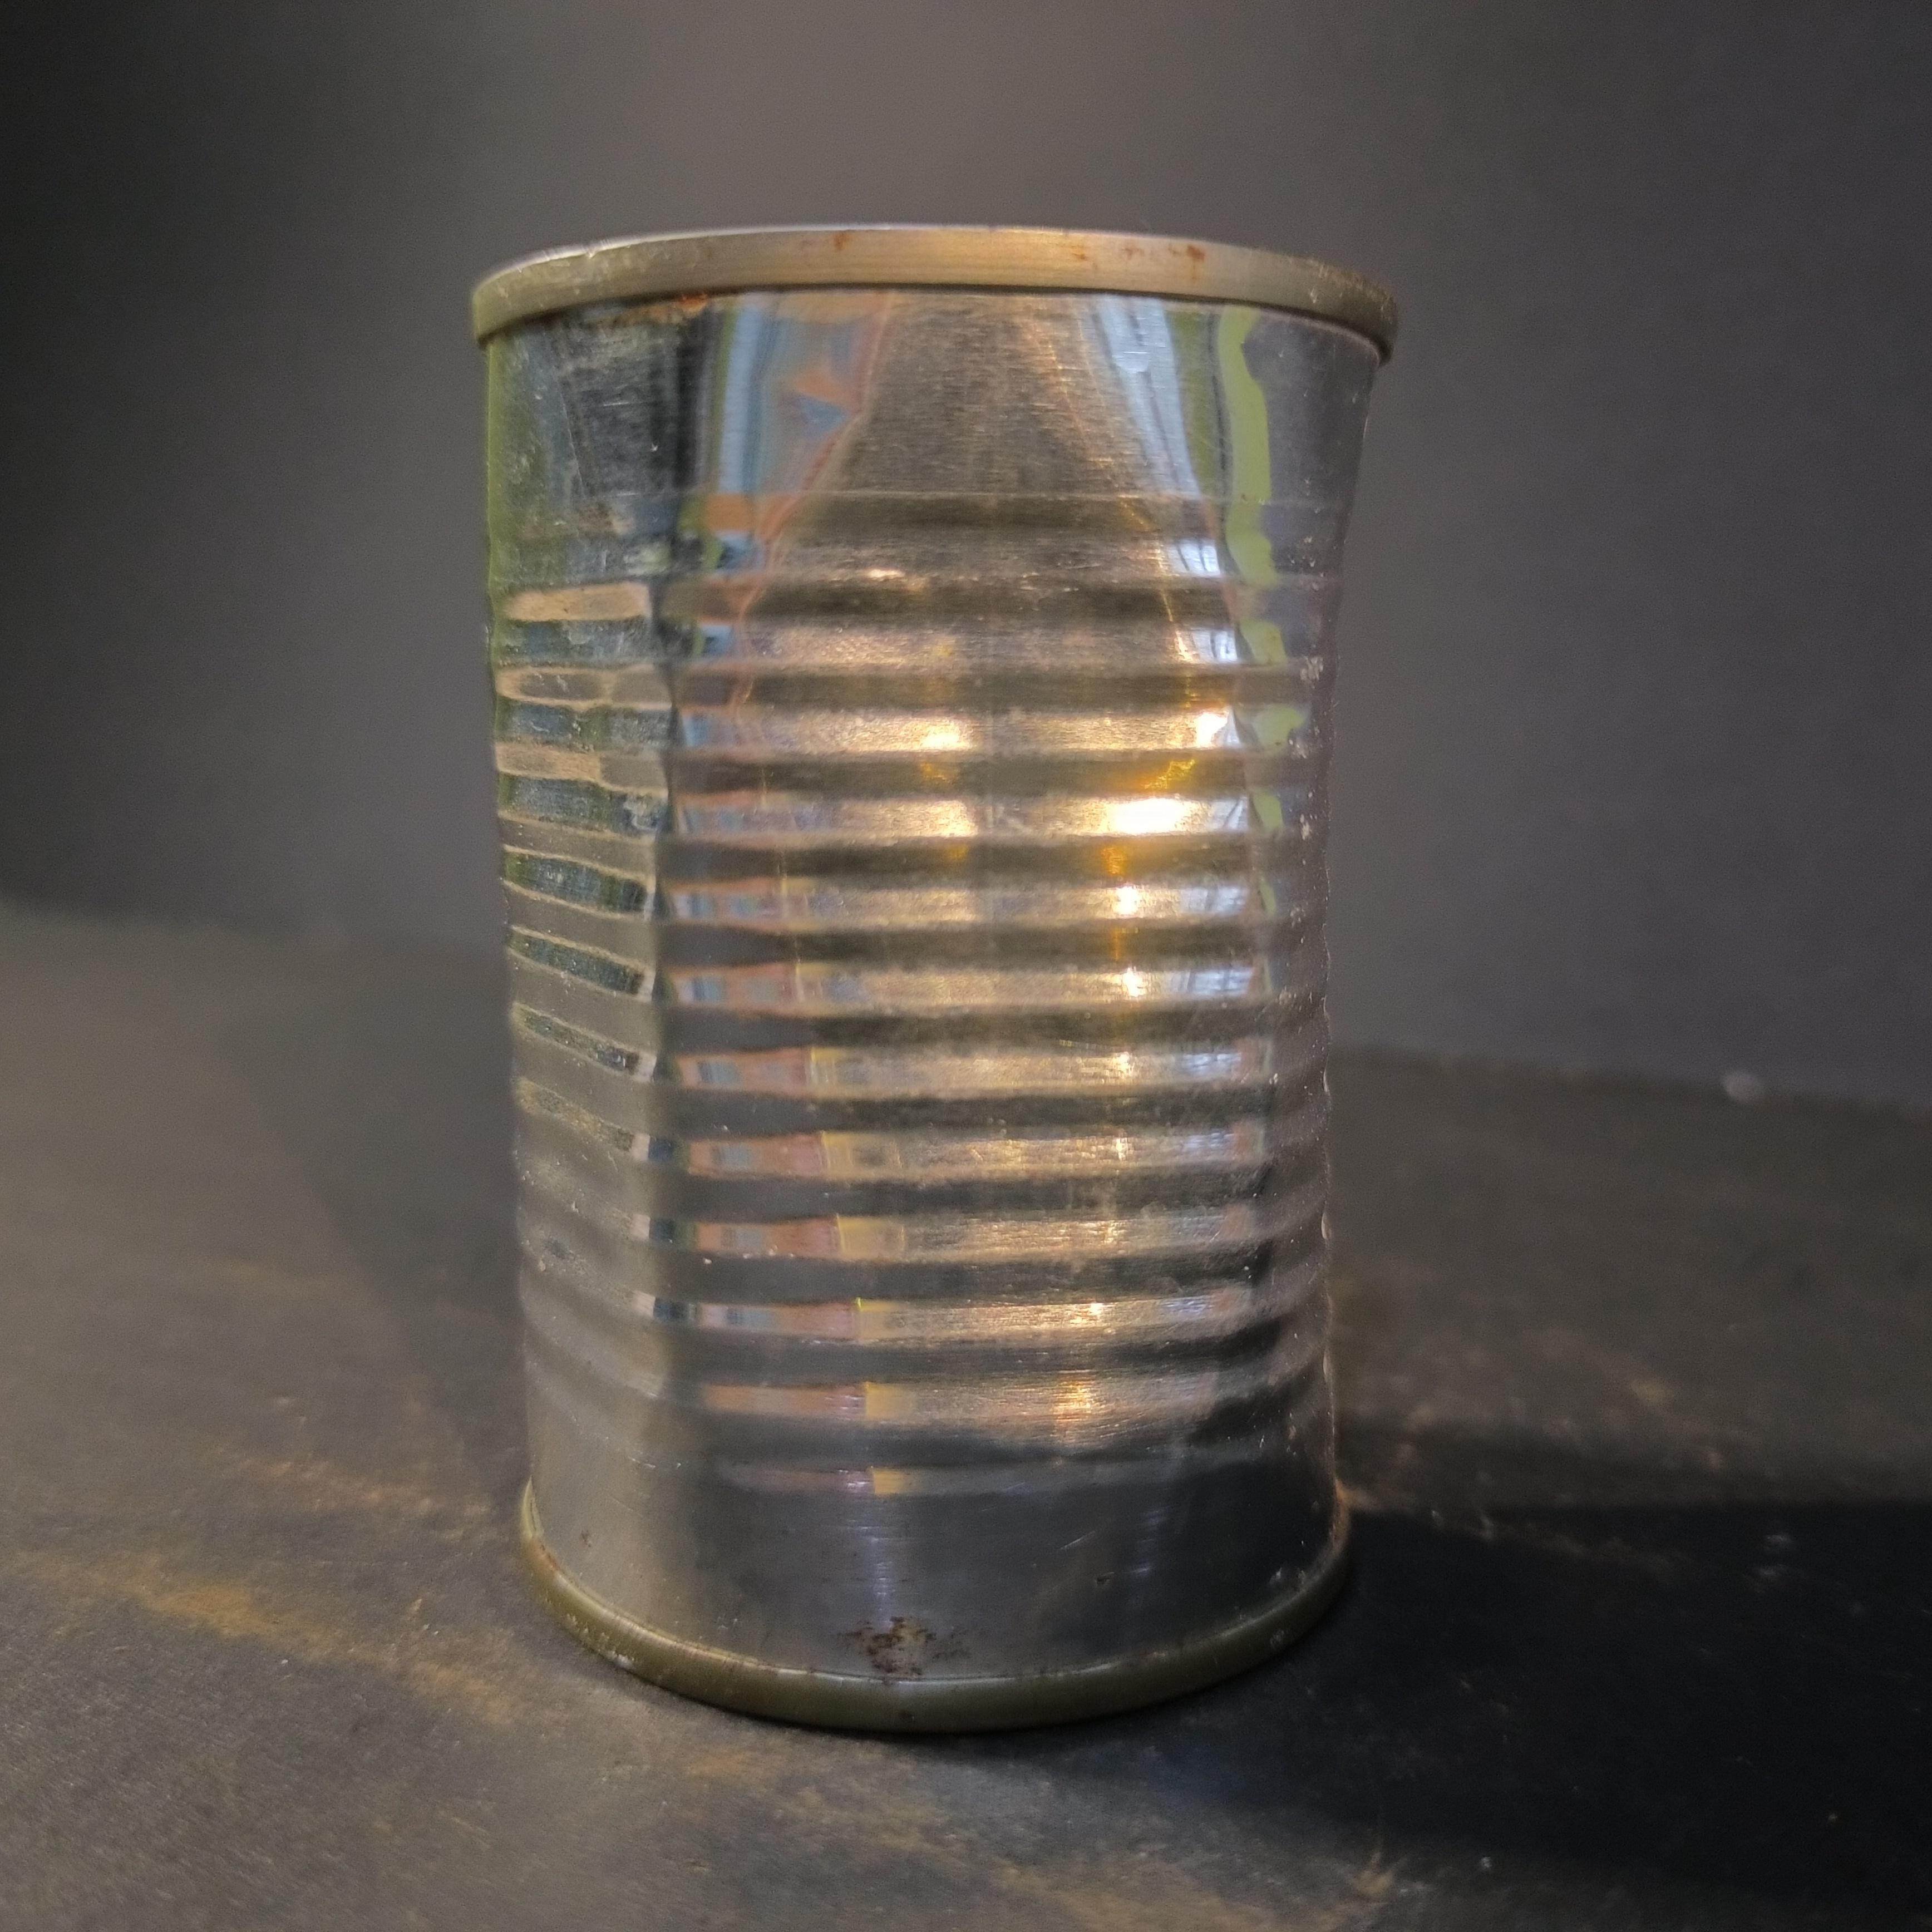Dented: (446, 214, 1502, 1753)
